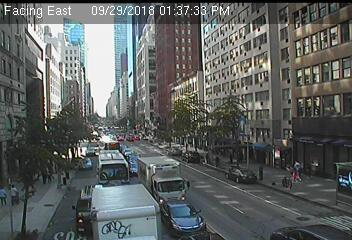car: (89, 184, 163, 240), (136, 156, 189, 208), (72, 184, 111, 238), (159, 200, 206, 237), (96, 149, 129, 194), (225, 166, 256, 185), (104, 140, 120, 160), (181, 151, 199, 163), (127, 162, 141, 177), (78, 158, 91, 171), (167, 147, 180, 157), (85, 148, 95, 157)
